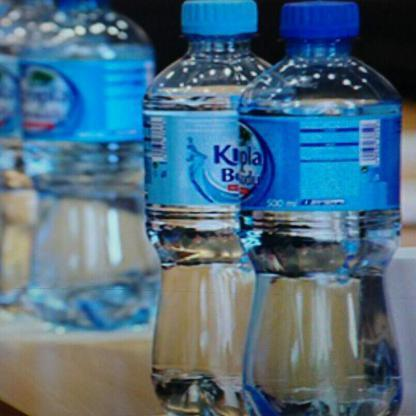bottle: (236, 0, 404, 416), (10, 0, 175, 338), (141, 0, 270, 416), (0, 10, 93, 306), (0, 0, 98, 208)
